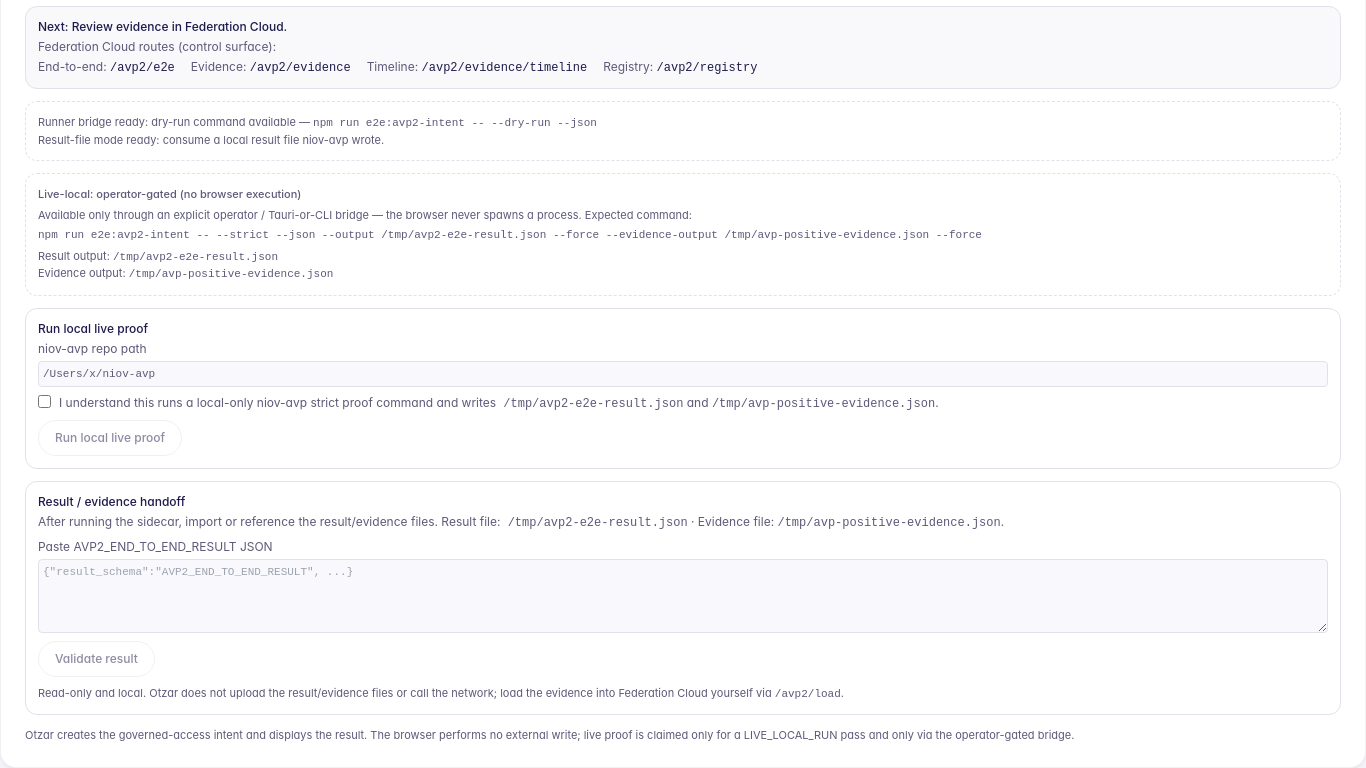
Avp2GovernedAccessCard › 10. in Tauri the run button is disabled until operator confirmation
The image size is (1366, 768).
(page scrolled)
Check: the button with test id "avp2-run-button" is disabled, box [38, 420, 182, 456]
Click the checkbox with test id "avp2-run-confirm" at (44, 401), box [38, 394, 51, 408]
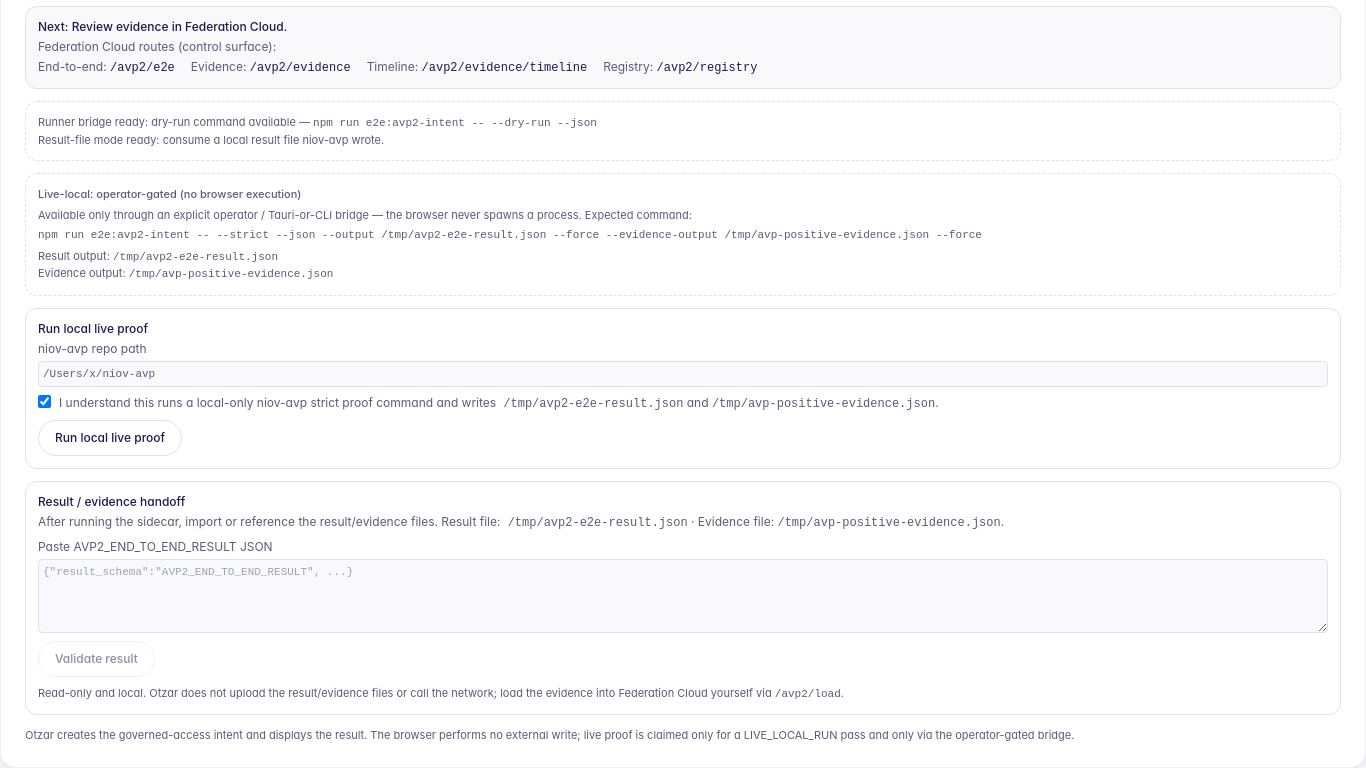
Check: the button with test id "avp2-run-button" is enabled, box [38, 420, 182, 456]
